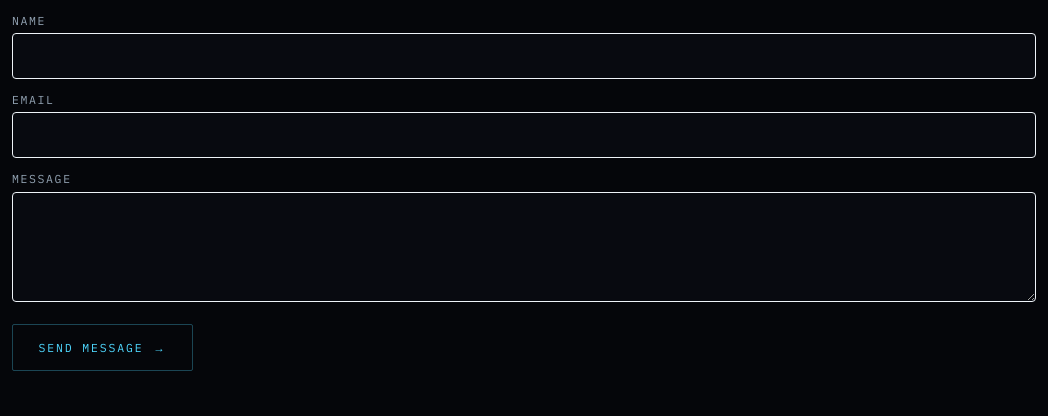
Test: ContactForm › submits valid data and shows success
The image size is (1048, 416).
Type "Jane Doe" into the field labelled "NAME" at [524, 56], box [12,33,1036,79]
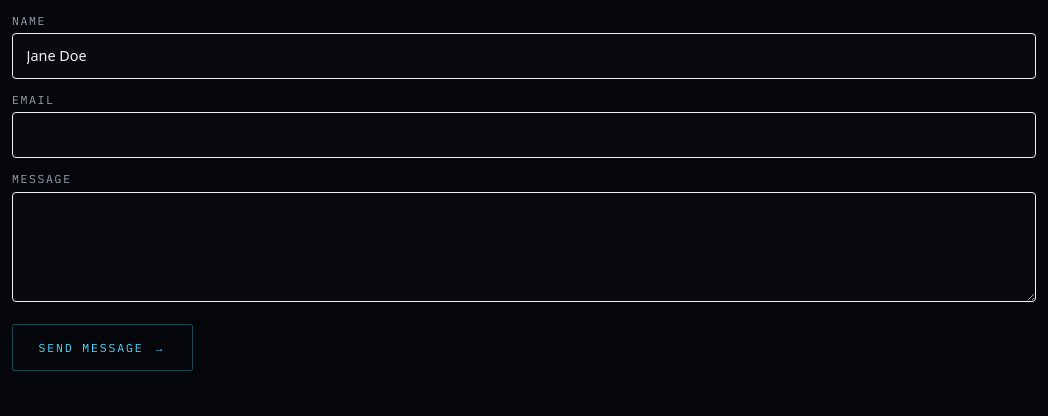
Type "jane@example.com" into the field labelled "EMAIL" at [524, 136], box [12,112,1036,158]
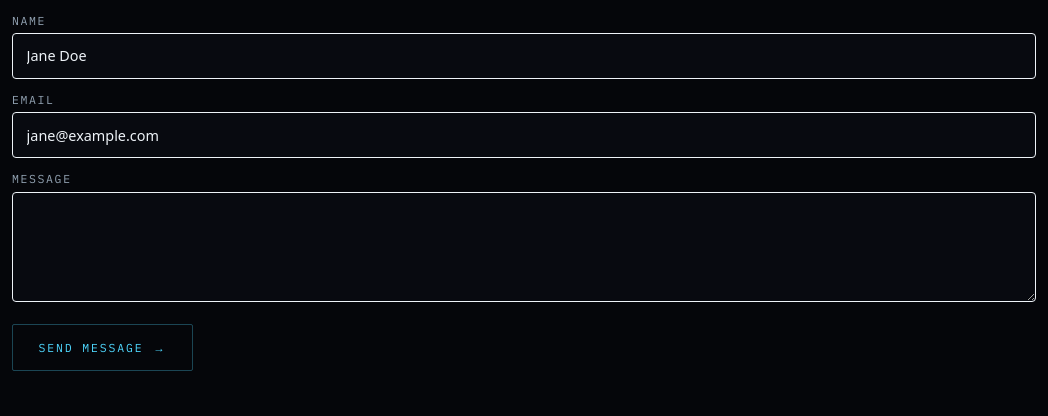
Type "A real message here." into the text box labelled "MESSAGE" at [524, 247], box [12,192,1036,302]
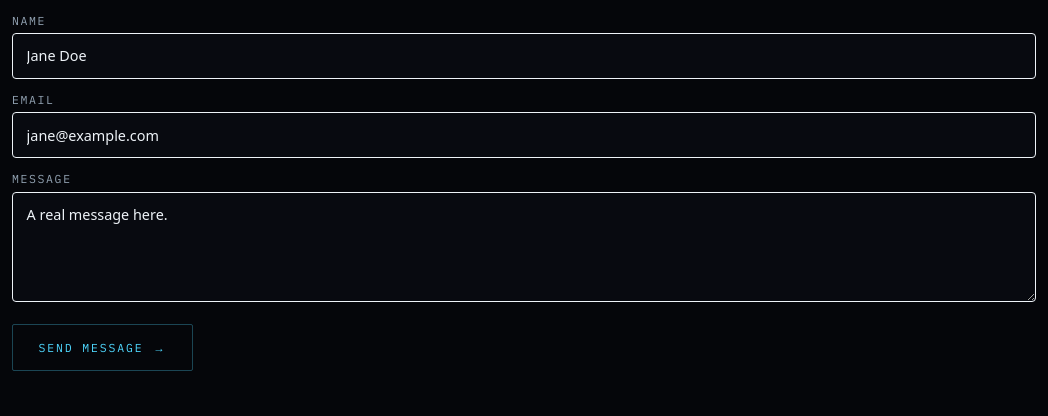
Click the button "SEND MESSAGE →" at [103, 348], box [12,324,193,371]
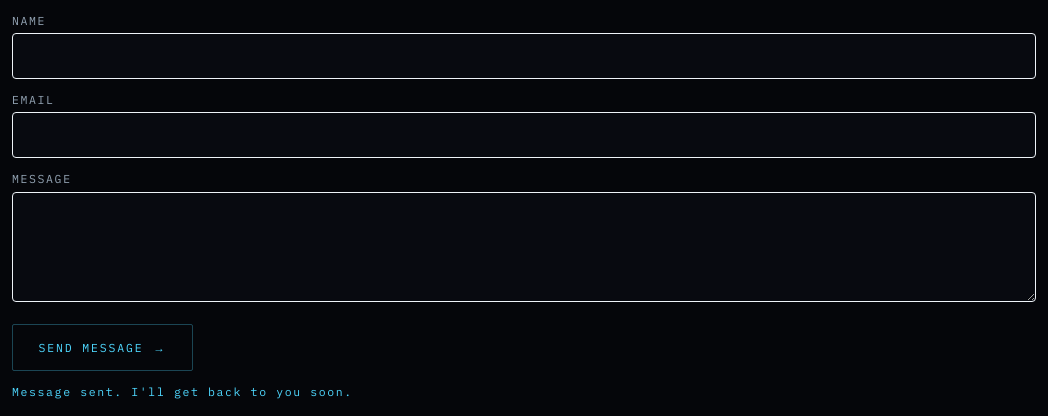
Result: the text "Message sent. I'll get back to you soon." is shown at [12,384,353,399]
